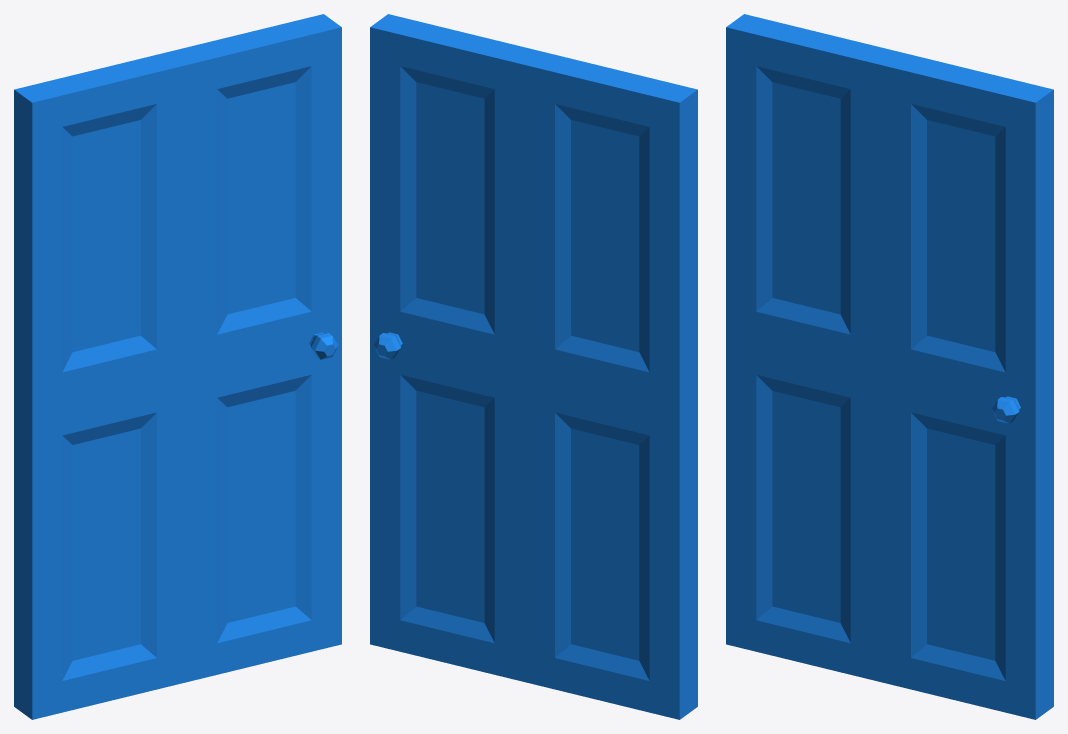
Rendered from Proto_Building_Block_Door_02.fbx.
3 renders of one model, left to right at view 1: azimuth 30°, elevation 25°; view 2: azimuth 150°, elevation 25°; view 3: azimuth 330°, elevation 25°, orthographic.
Visible parts, largest first — view 1: Proto_Building_Block_Door_02; view 2: Proto_Building_Block_Door_02; view 3: Proto_Building_Block_Door_02.
Boxes of the visible parts, x1,y1,x2,y2 form: Proto_Building_Block_Door_02: [14, 14, 341, 719]; Proto_Building_Block_Door_02: [370, 14, 697, 719]; Proto_Building_Block_Door_02: [726, 14, 1053, 719].
Bounding box in the file's own units: 0.927 × 1.77 × 0.2177.
